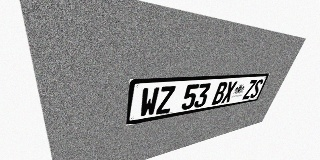3: (193, 83, 211, 108)
5: (181, 84, 200, 110)
B: (211, 82, 229, 105)
S: (249, 79, 264, 98)
W: (139, 87, 160, 118)
X: (221, 81, 238, 103)
Z: (156, 86, 176, 115), (242, 80, 257, 100)
